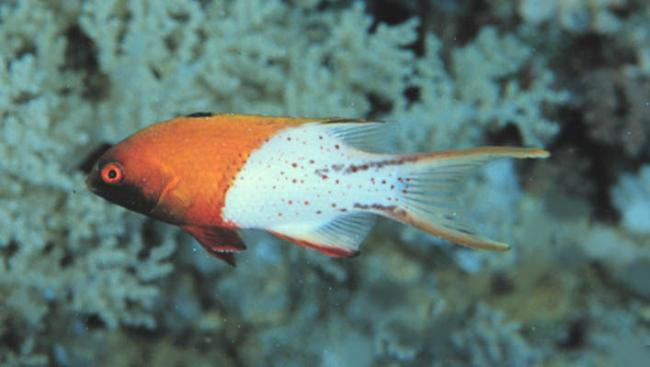fish: (87, 111, 550, 265)
